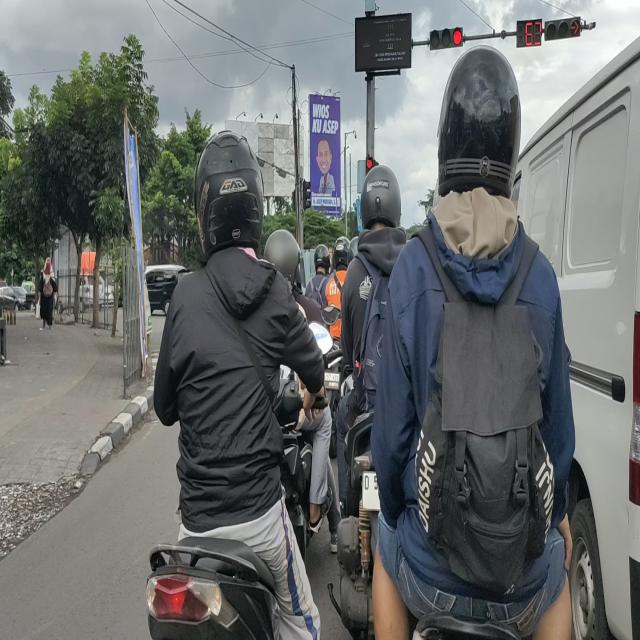helmet: (437, 41, 524, 191), (194, 130, 264, 250), (359, 164, 402, 235), (270, 231, 304, 285), (335, 233, 354, 269), (314, 242, 331, 271)
